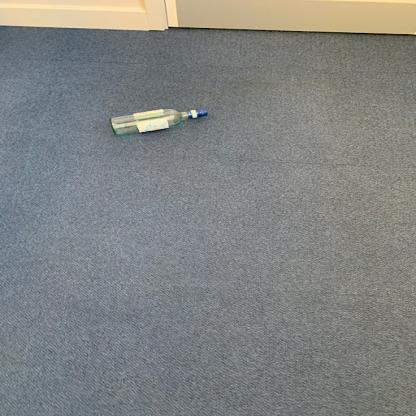trash: (107, 102, 211, 139)
